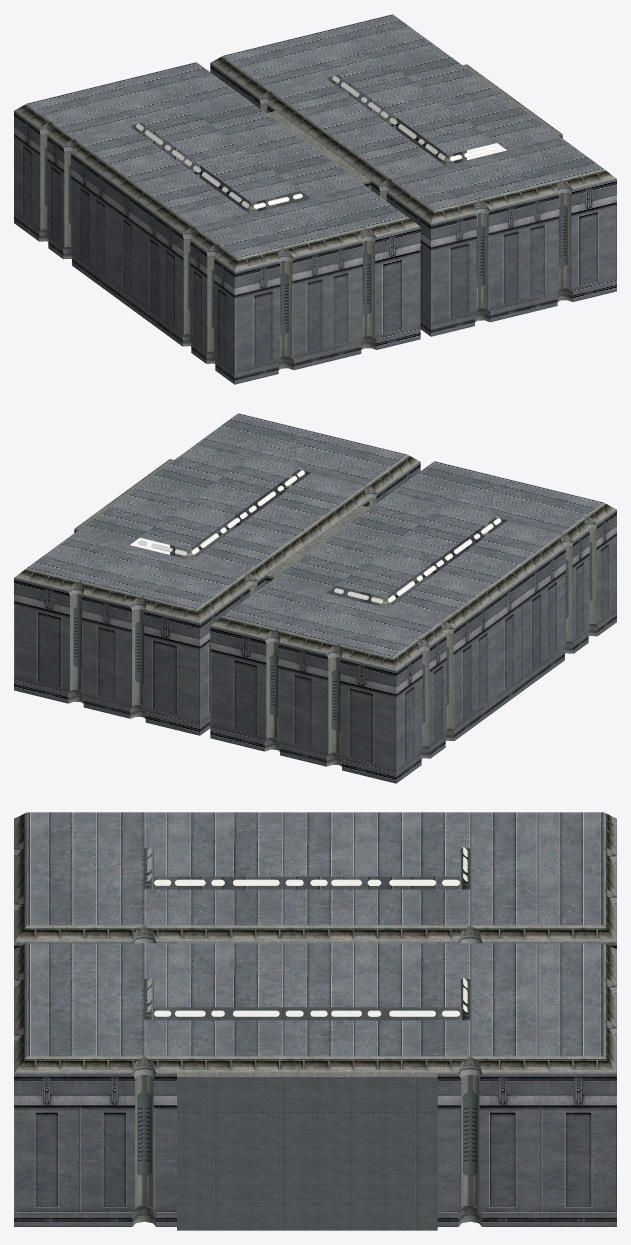
Rendered from thm_nboo_thed_emp_retreat_r23_inquistionchamber_mesh_r23.fbx.
3 views of the same model, one above another, from view 1: azimuth 30°, elevation 25°; view 2: azimuth 150°, elevation 25°; view 3: azimuth 270°, elevation 25° (orthographic). The views are drawn at different scales.
Parts seen in each view (by area): view 1: mesh_node; view 2: mesh_node; view 3: mesh_node.
Boxes of the visible parts, x1,y1,x2,y2 form: mesh_node: (14,14,616,384); mesh_node: (14,413,616,783); mesh_node: (14,812,616,1230).
Size of the model in its own units: 18.75 by 5.9 by 18.5.
